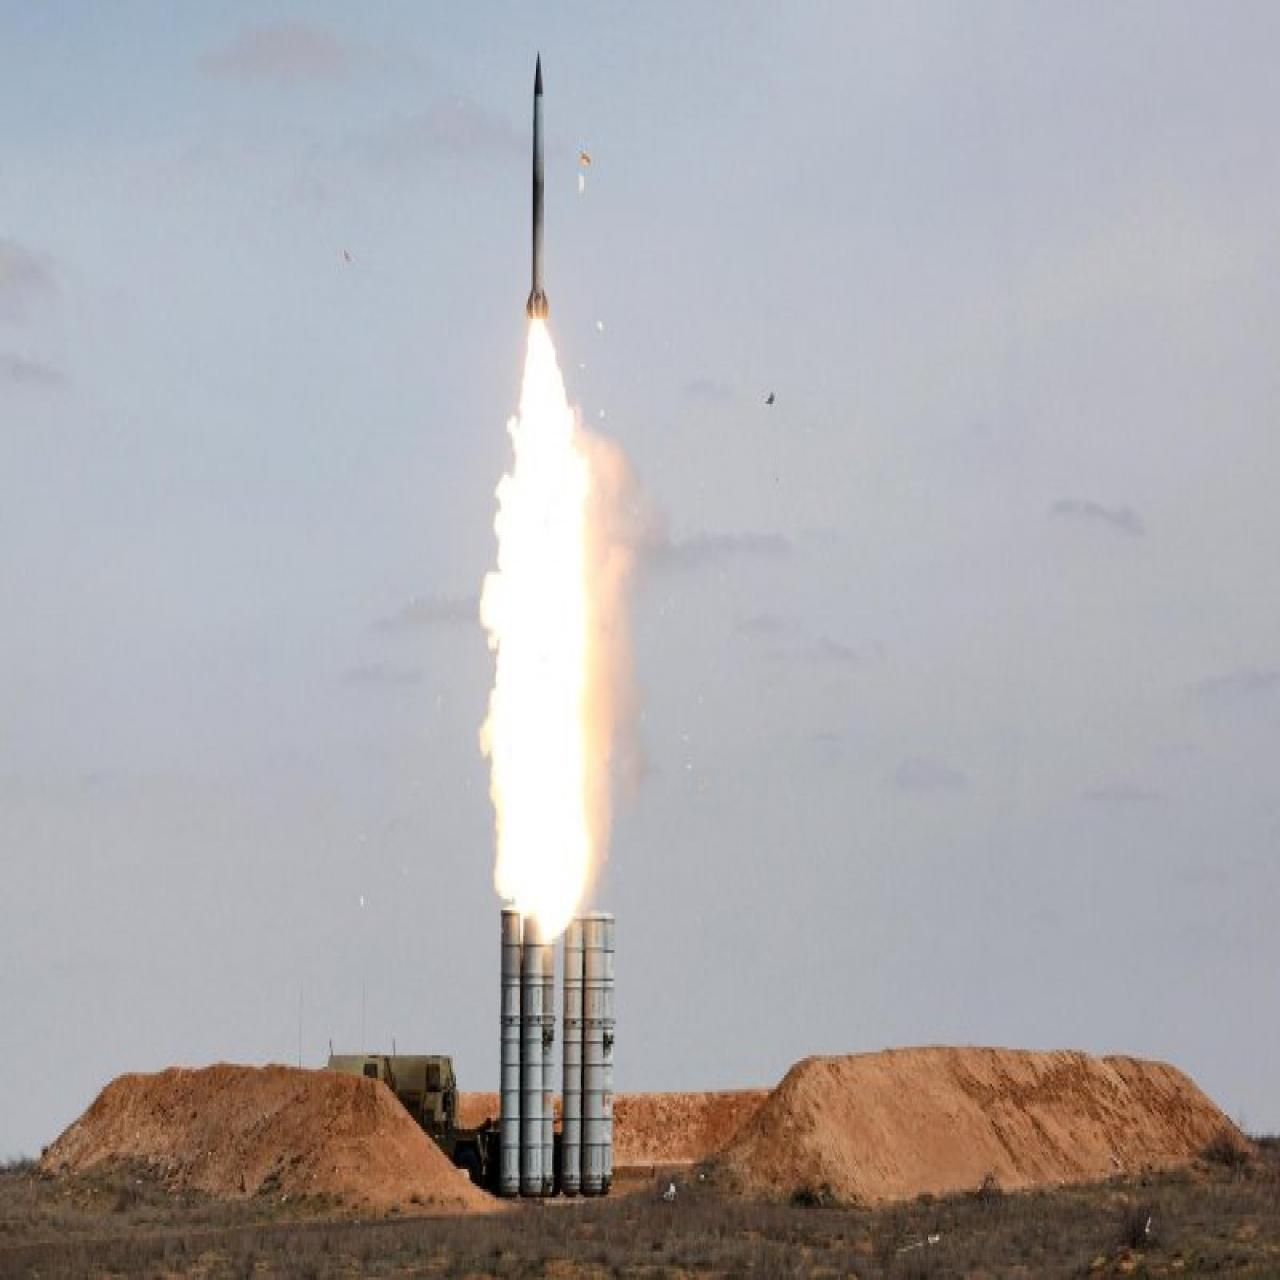MIL_Veh: (326, 903, 559, 1207), (563, 908, 621, 1201)
